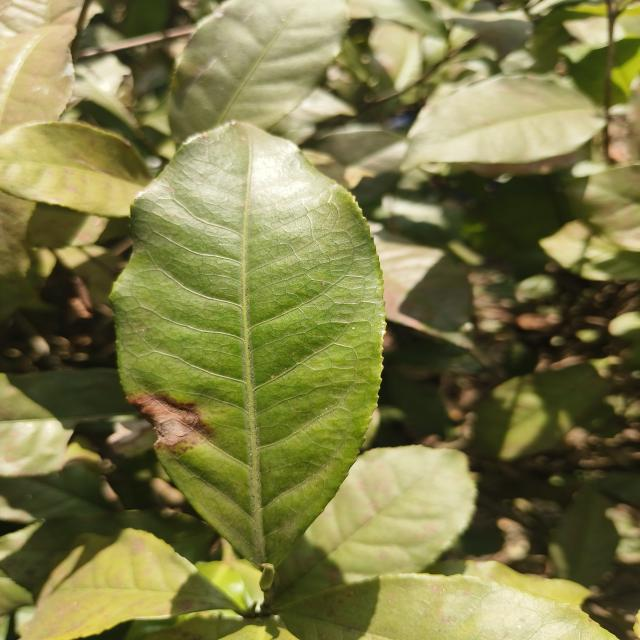Leaf: (112, 122, 385, 565), (279, 445, 476, 604), (169, 0, 348, 142), (23, 528, 234, 640), (279, 574, 615, 640), (401, 75, 602, 172), (0, 510, 215, 596), (0, 368, 155, 477), (0, 122, 151, 218), (475, 363, 611, 460), (374, 231, 472, 343), (0, 25, 75, 134), (0, 458, 124, 523), (548, 485, 618, 587), (570, 164, 640, 251)
